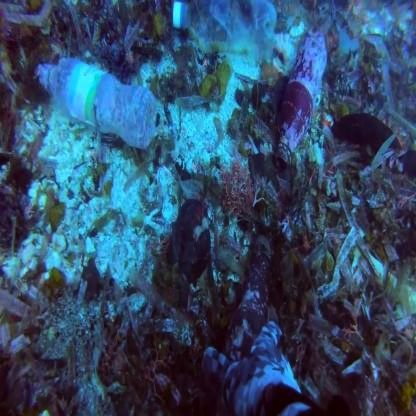gbottle: (288, 38, 334, 209), (238, 242, 267, 386)
pbottle: (31, 47, 158, 188), (150, 0, 282, 70)
